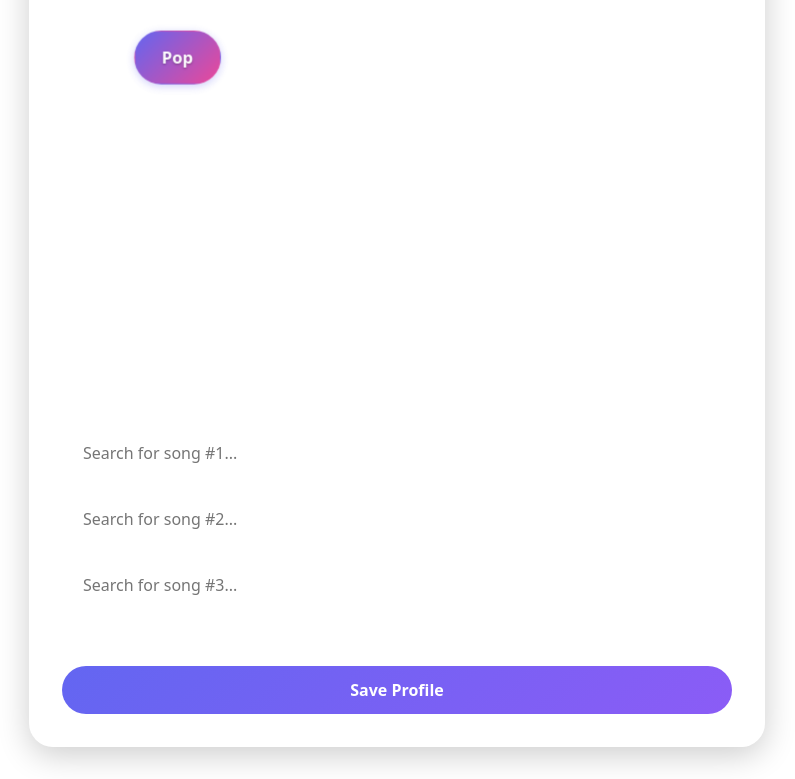
Test: Profile Component › saves profile data
(page scrolled)
Click the button "Save Profile": (397, 690) [62, 666, 732, 714]
(page scrolled)
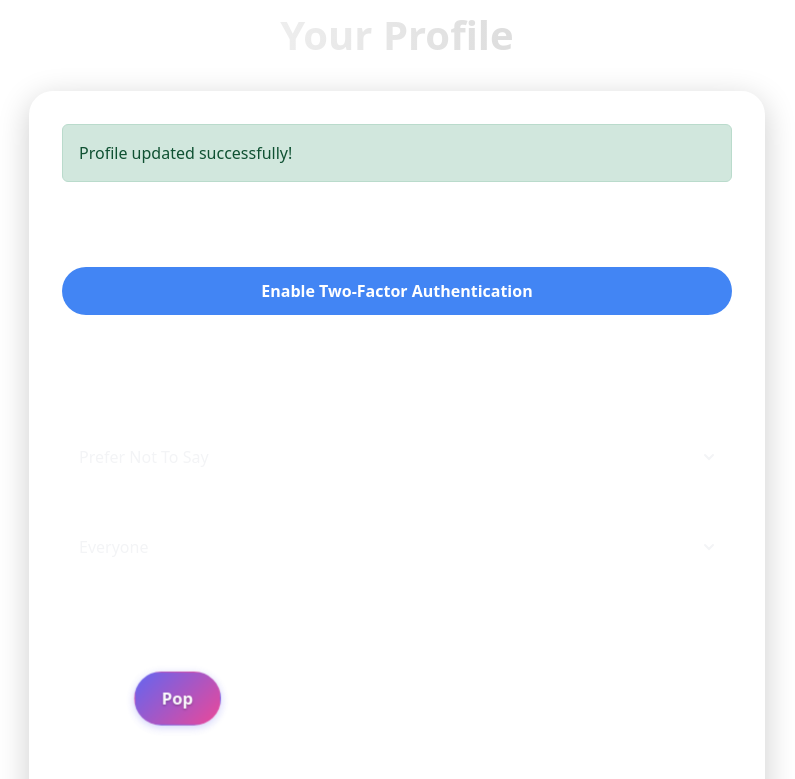
Check: the text "Profile updated successfully!" is shown, box [62, 124, 732, 182]
